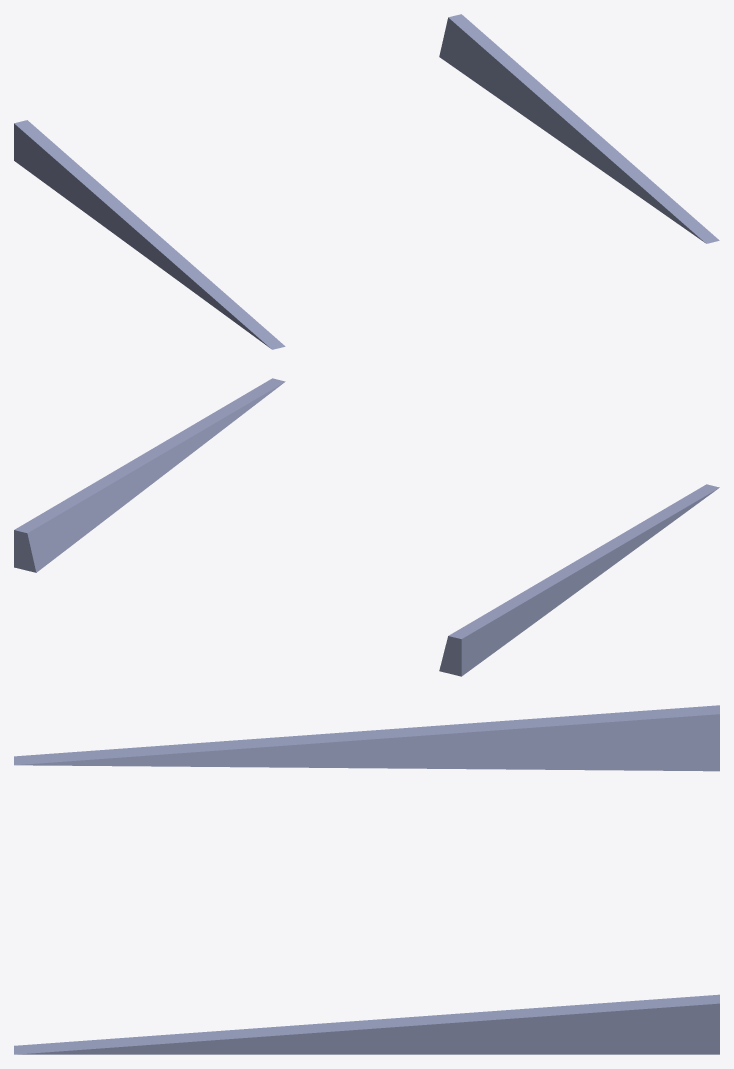
File: road-straight-barrier-end.glb
The picture shows the model from 3 angles, top to bottom: view 1: azimuth 30°, elevation 25°; view 2: azimuth 150°, elevation 25°; view 3: azimuth 270°, elevation 25°; orthographic projection. The views are drawn at different scales.
Visible parts, largest first — view 1: road-straight-barrier-end; view 2: road-straight-barrier-end; view 3: road-straight-barrier-end.
Part boxes in pixels (x1=…): road-straight-barrier-end: x1=14, y1=14, x2=719, y2=349; road-straight-barrier-end: x1=14, y1=378, x2=719, y2=676; road-straight-barrier-end: x1=14, y1=705, x2=719, y2=1054.
Size of the model in its own units: 1 by 0.08 by 1.
1 material, 1 textured.
